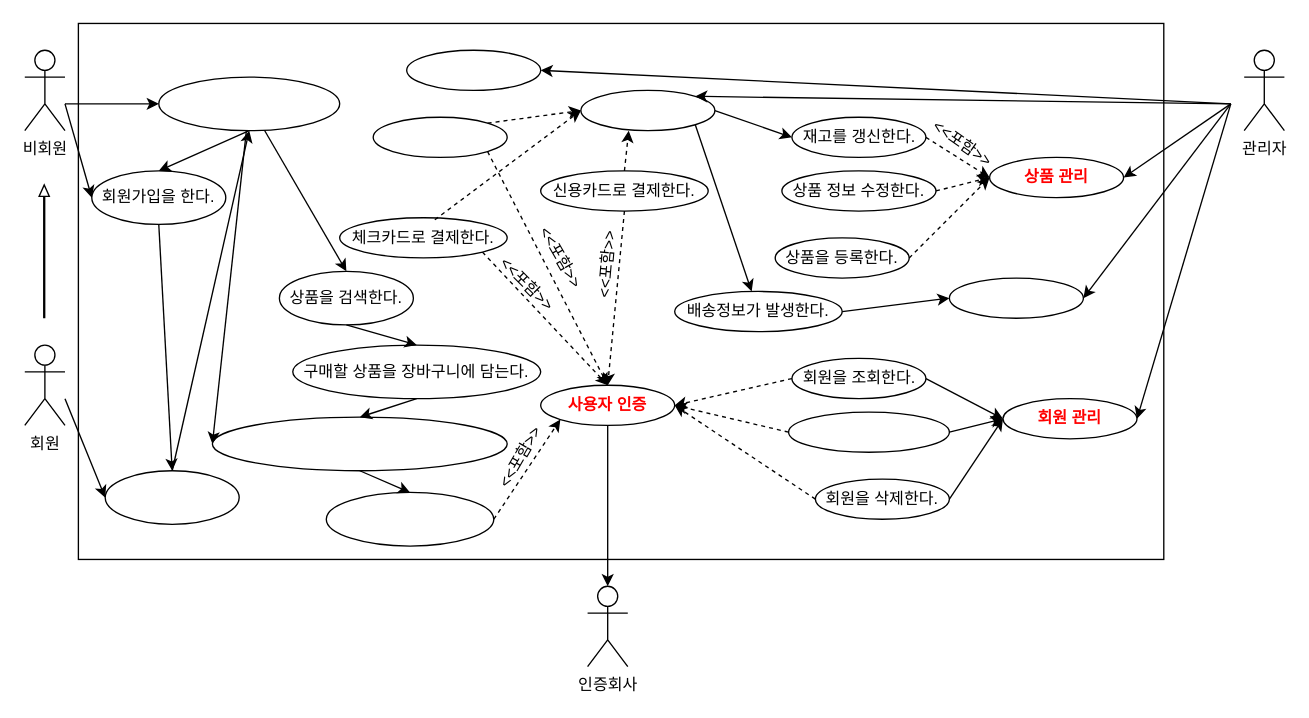
Some shapes in this 1309 by 718 pixel diagram are drawn without their labels. The box of each missing label's shape, as (x1, y1, x2, y2) in pixels:
결제 관리: (580, 89, 715, 131)
계좌이체한다.: (372, 116, 507, 157)
로그인을 한다.: (104, 469, 239, 524)
배송 관리: (948, 277, 1083, 318)
상품목록으로 이동한다.: (157, 76, 340, 131)
이용후기 관리: (405, 49, 541, 90)
장바구니에서 구매할 상품을 주문한다.: (211, 416, 507, 471)
주문내용을 구매한다.: (325, 491, 494, 546)
회원 정보를 수정한다.: (787, 411, 949, 452)
